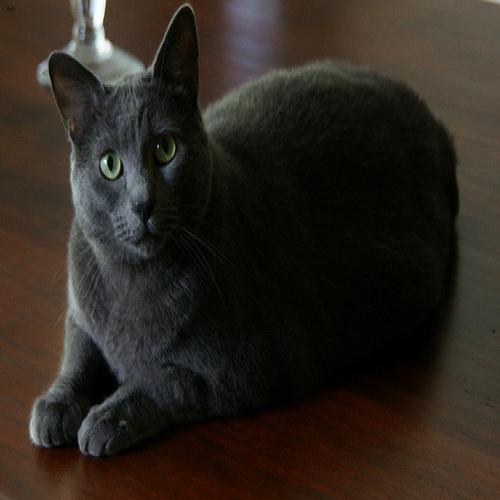rblue: (40, 1, 219, 265)
